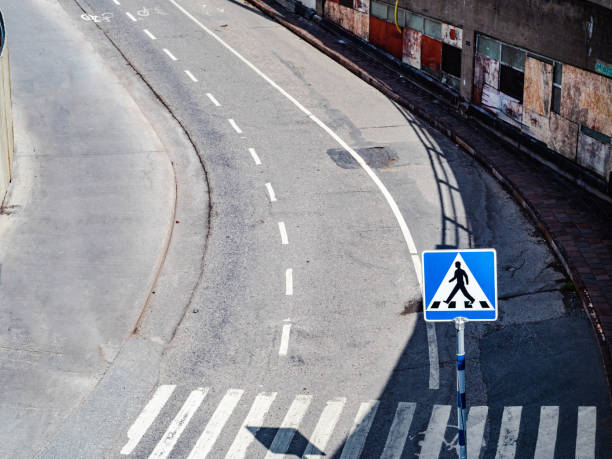yaya_gecidi: (423, 250, 499, 325)
